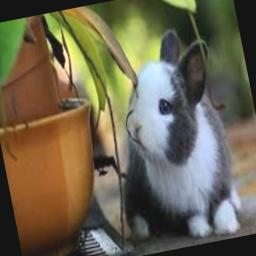rabbit: (123, 30, 240, 239)
